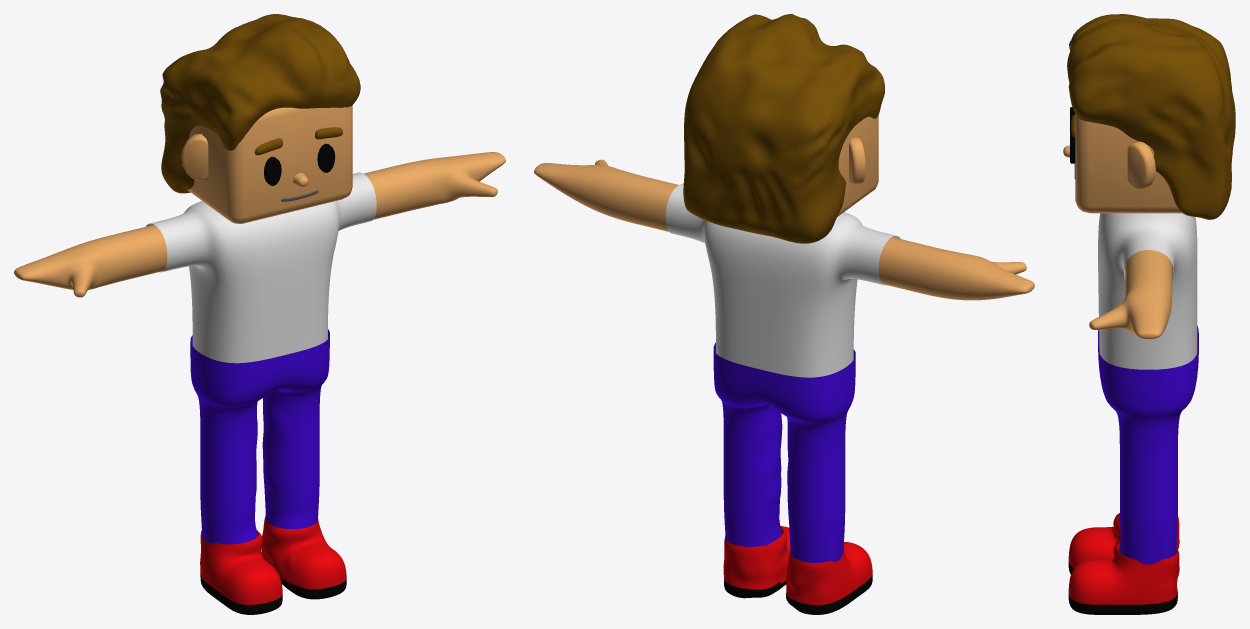
The model's file is Char_Zim_2.fbx.
3 renders of one model, left to right at view 1: azimuth 30°, elevation 25°; view 2: azimuth 150°, elevation 25°; view 3: azimuth 270°, elevation 25°, orthographic. The views are drawn at different scales.
Visible parts, largest first — view 1: Shirt, Pants, hair, head, Body, Shoes; view 2: hair, Shirt, Pants, Body, Shoes, head; view 3: hair, Pants, Shirt, head, Shoes, Body.
Boxes of the visible parts, x1=… form: Shirt: x1=146, y1=172, x2=376, y2=363; Pants: x1=190, y1=329, x2=329, y2=544; hair: x1=160, y1=14, x2=360, y2=193; head: x1=181, y1=105, x2=352, y2=223; Body: x1=14, y1=152, x2=505, y2=297; Shoes: x1=200, y1=516, x2=346, y2=614; hair: x1=683, y1=14, x2=884, y2=243; Shirt: x1=665, y1=183, x2=900, y2=377; Pants: x1=713, y1=342, x2=855, y2=562; Body: x1=534, y1=159, x2=1034, y2=300; Shoes: x1=723, y1=525, x2=872, y2=614; head: x1=837, y1=115, x2=878, y2=216; hair: x1=1067, y1=14, x2=1235, y2=219; Pants: x1=1098, y1=325, x2=1198, y2=564; Shirt: x1=1098, y1=213, x2=1197, y2=369; head: x1=1063, y1=107, x2=1182, y2=213; Shoes: x1=1068, y1=513, x2=1179, y2=614; Body: x1=1089, y1=250, x2=1173, y2=339.
Bounding box in the file's own units: 180 × 196 × 53.56.
